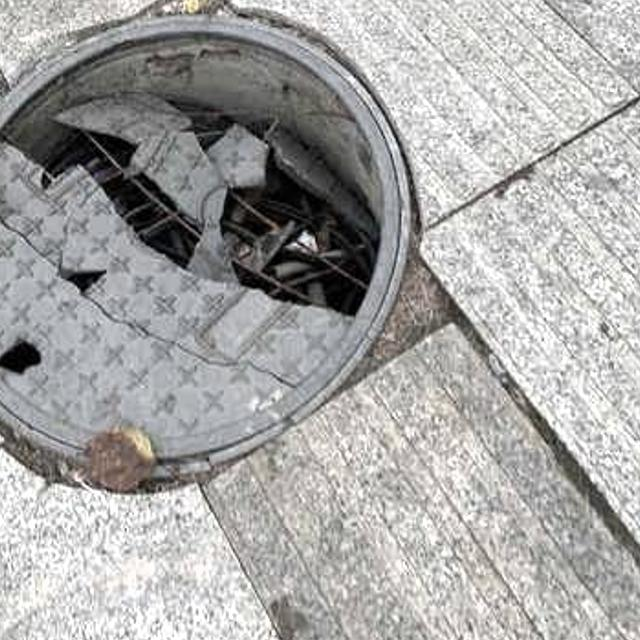broke: (0, 0, 426, 502)
